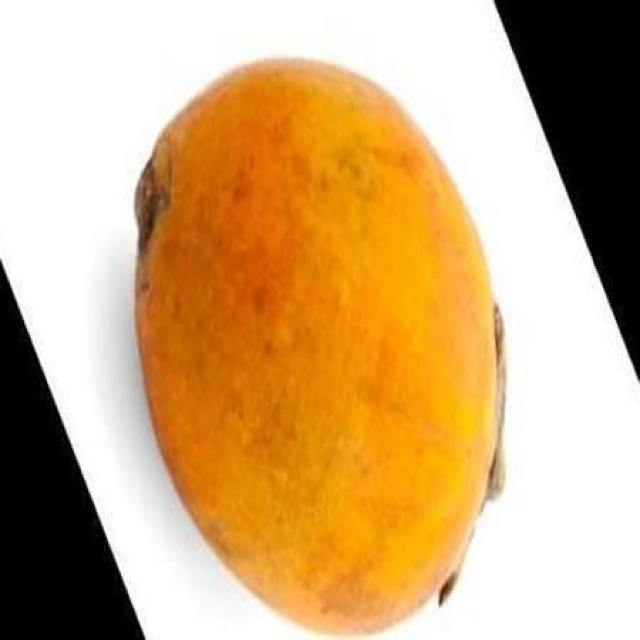good: (129, 60, 505, 638)
